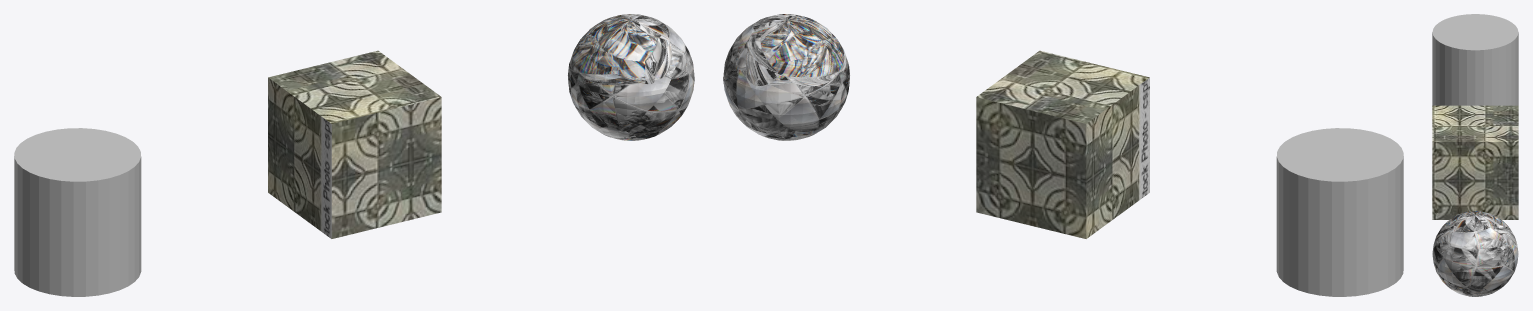
The model's file is Esfera_Cubo_Cilindro.obj.
The picture shows the model from 3 angles, left to right: view 1: azimuth 30°, elevation 25°; view 2: azimuth 150°, elevation 25°; view 3: azimuth 270°, elevation 25°; orthographic projection. The views are drawn at different scales.
Visible parts, largest first — view 1: Cube, Cilindro, Esfera; view 2: Cube, Cilindro, Esfera; view 3: Cube, Cilindro, Esfera.
Boxes of the visible parts, box(x1,y1,x2,y2) form: Cube: box(268, 50, 441, 238); Cilindro: box(14, 128, 141, 296); Esfera: box(568, 14, 694, 140); Cube: box(976, 50, 1149, 238); Cilindro: box(1276, 128, 1403, 296); Esfera: box(723, 14, 849, 140); Cube: box(1432, 105, 1518, 219); Cilindro: box(1432, 14, 1518, 105); Esfera: box(1432, 211, 1518, 296).
Size of the model in its own units: 12.05 by 2 by 2.
